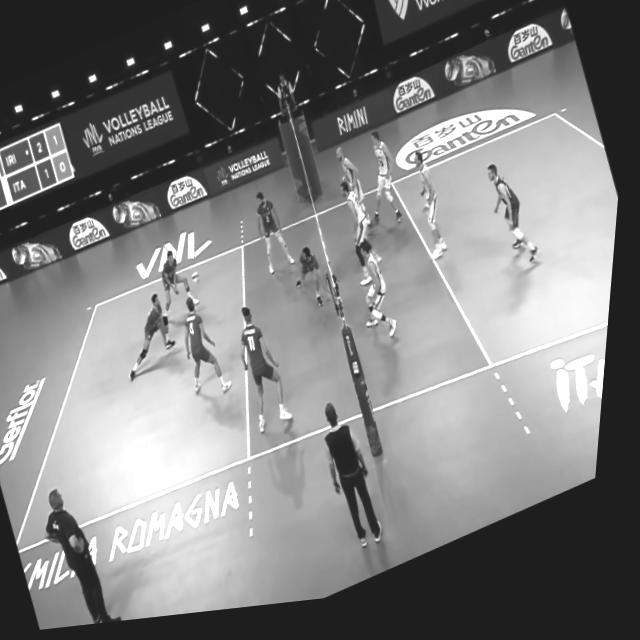player: (226, 300, 311, 449), (480, 160, 558, 292), (171, 291, 246, 411), (351, 131, 419, 243), (113, 289, 190, 380), (405, 157, 463, 274), (354, 242, 413, 355), (248, 189, 309, 291), (331, 143, 385, 246), (335, 179, 386, 272), (291, 248, 341, 327), (155, 248, 206, 324)
